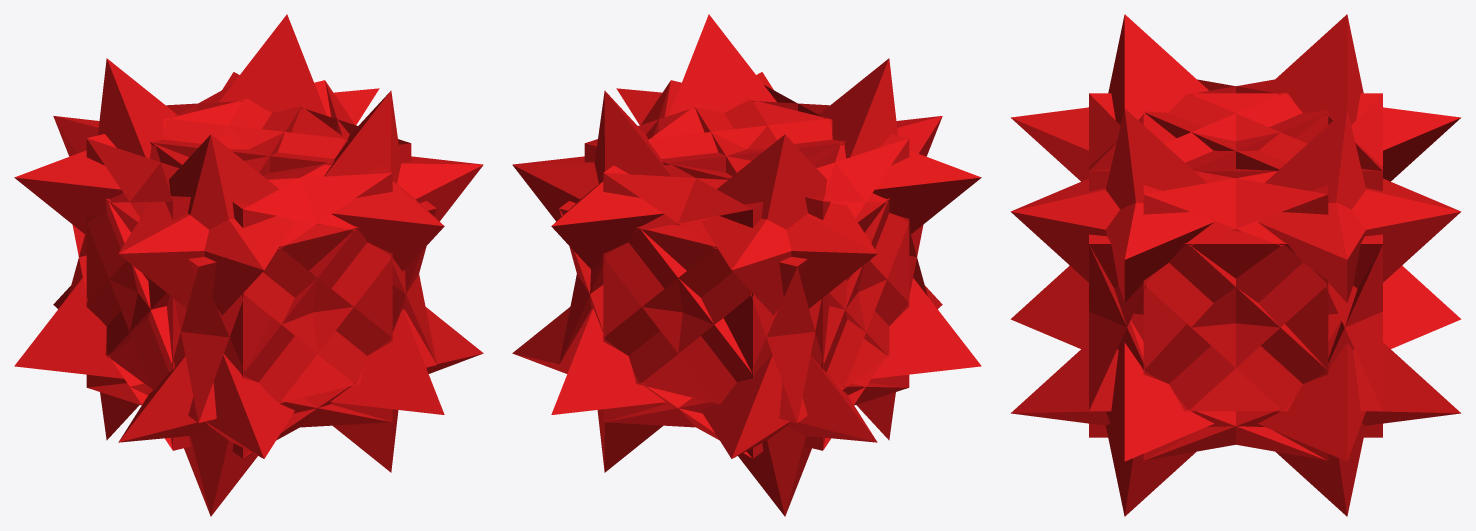
The model's file is gem.glb.
3 renders of one model, left to right at view 1: azimuth 30°, elevation 25°; view 2: azimuth 150°, elevation 25°; view 3: azimuth 270°, elevation 25°, orthographic. The views are drawn at different scales.
Visible parts, largest first — view 1: Cube; view 2: Cube; view 3: Cube.
Boxes of the visible parts, box(x1,y1,x2,y2) form: Cube: box(14, 14, 483, 516); Cube: box(512, 14, 981, 516); Cube: box(1010, 14, 1461, 516).
Size of the model in its own units: 4.89 by 4.89 by 4.89.
